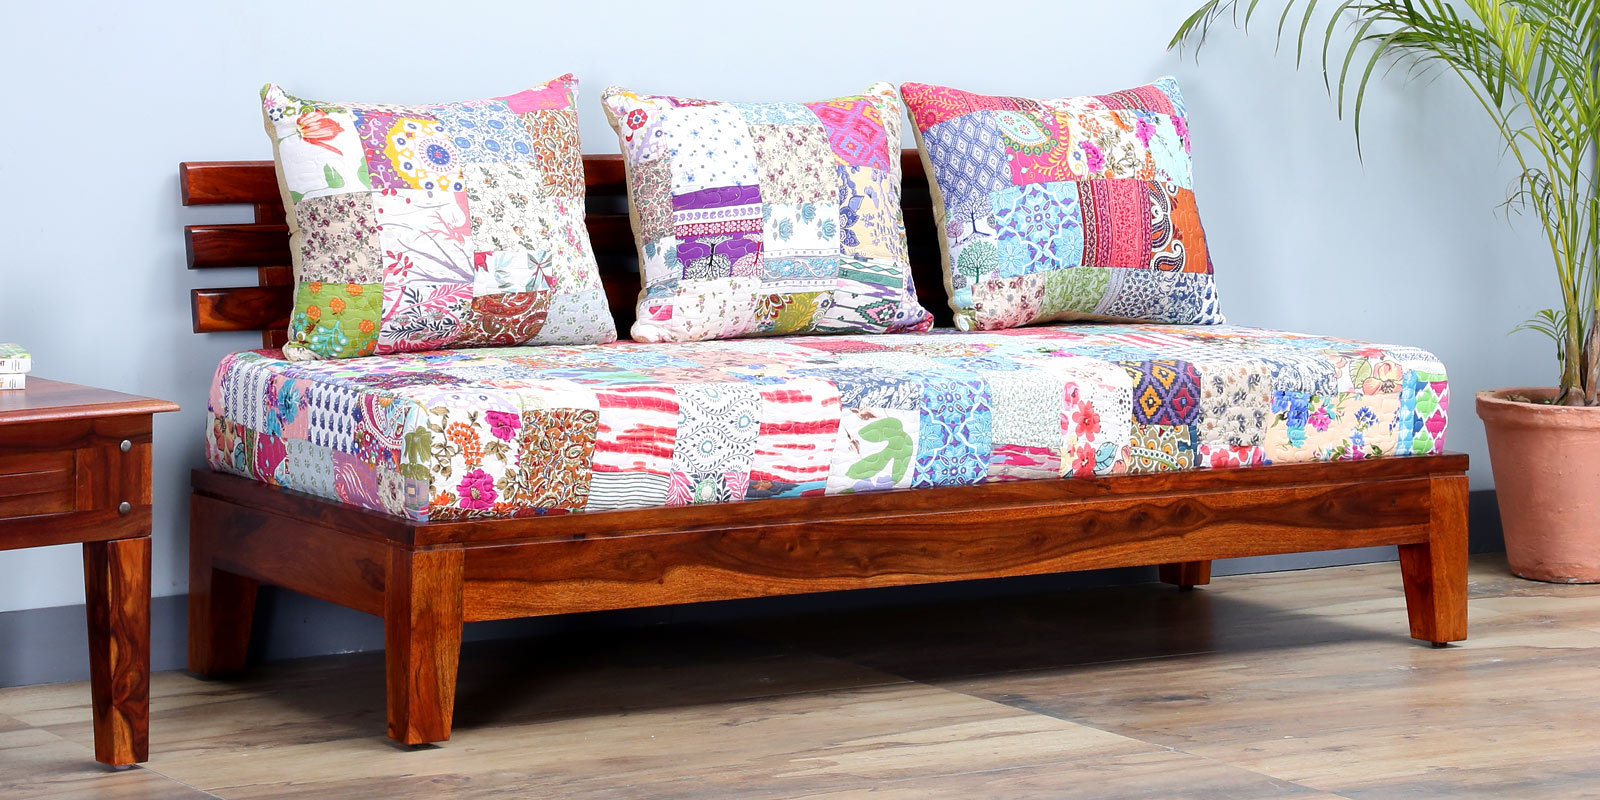Hayden Three Seater Sofa in Honey Oak Finish by Bohemiana: (153, 72, 1510, 760)
